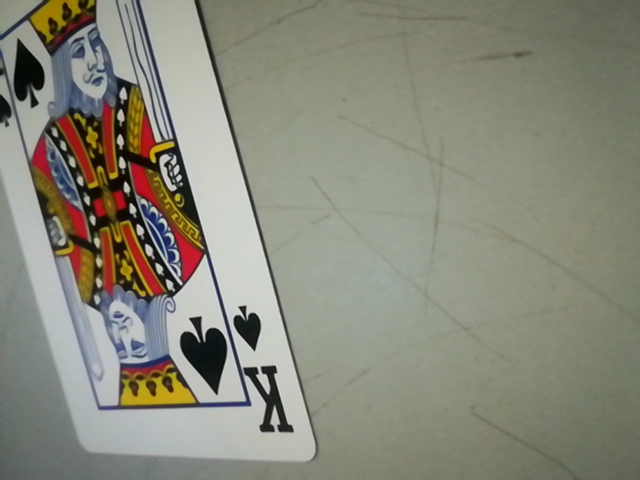ht k: (226, 293, 300, 453)
